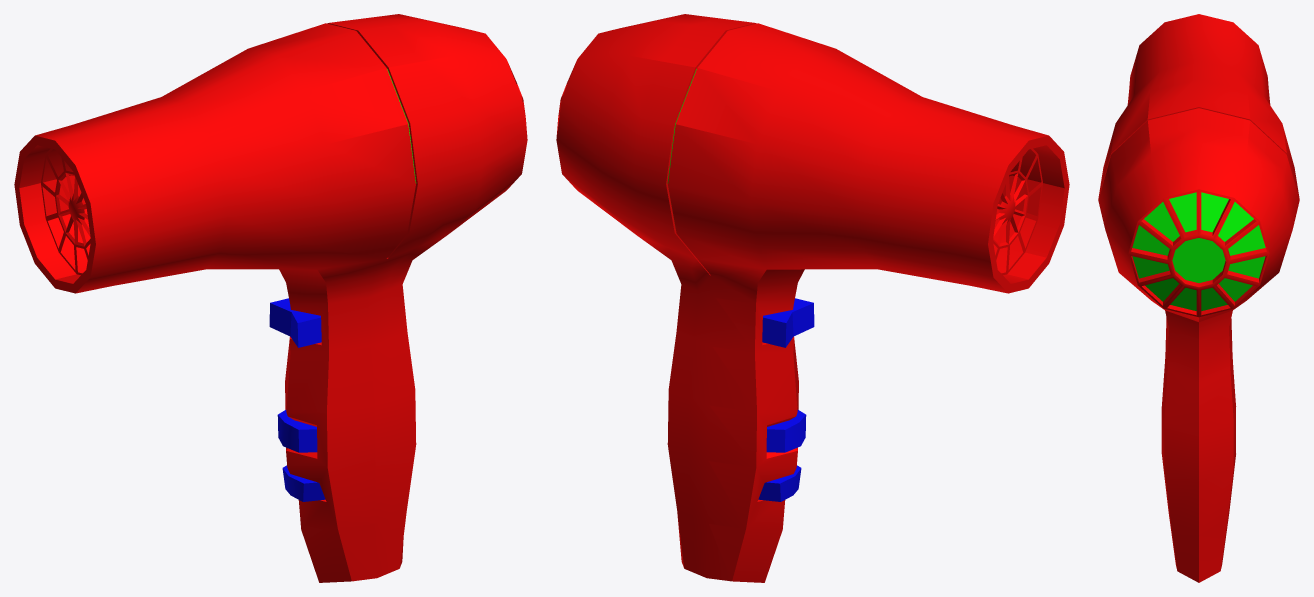
File: HairDryer.fbx
The picture shows the model from 3 angles, left to right: view 1: azimuth 30°, elevation 25°; view 2: azimuth 150°, elevation 25°; view 3: azimuth 270°, elevation 25°; orthographic projection. The views are drawn at different scales.
Visible parts, largest first — view 1: Hair Dryer; view 2: Hair Dryer; view 3: Hair Dryer.
Part boxes in pixels (left/top/right/bottom): Hair Dryer: left=14, top=14, right=527, bottom=582; Hair Dryer: left=556, top=14, right=1069, bottom=582; Hair Dryer: left=1098, top=14, right=1299, bottom=582.
Size of the model in its own units: 19.27 by 22.19 by 8.82.
